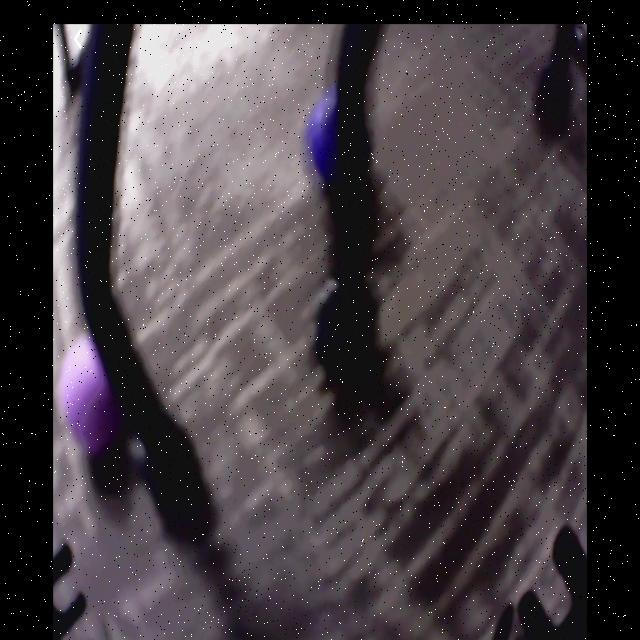ball: (60, 334, 108, 446), (308, 97, 358, 180)
